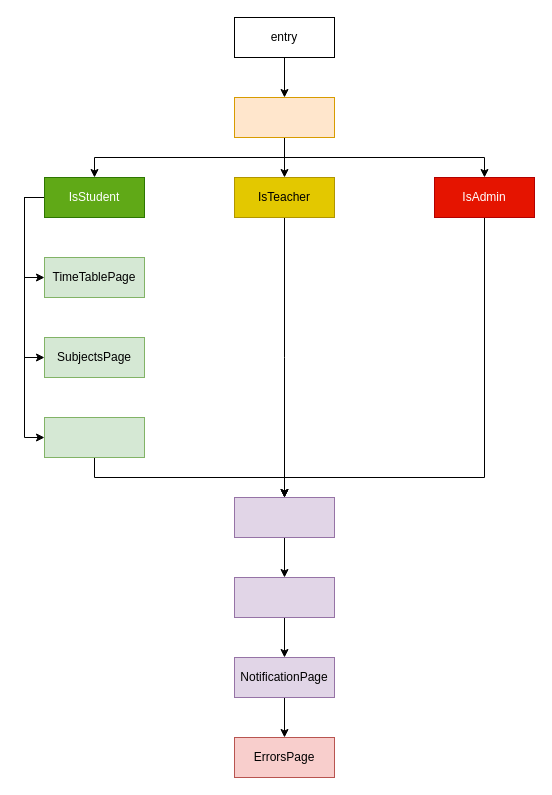
Some shapes in this 552 by 795 pixel diagram are drawn without their labels. The centre of each missing label's shape, as x and y in pixels:
"Auth" goes at (284,117).
"MainPage" goes at (284,517).
"MaterialsPage" goes at (94,437).
"ProfilePage" goes at (284,597).
